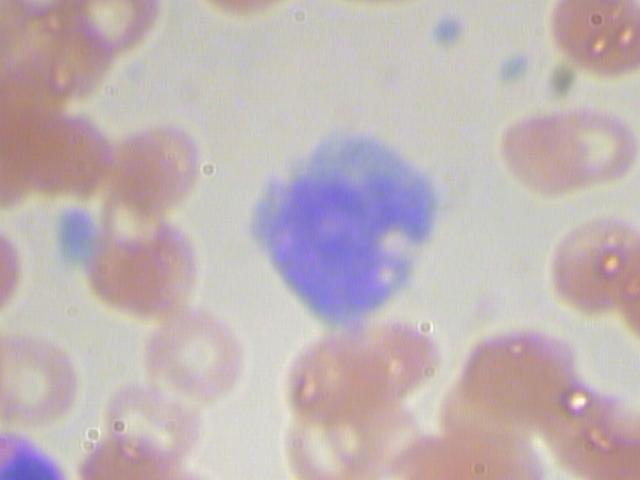RBC: (77, 209, 204, 322), (456, 325, 582, 426), (492, 109, 637, 195), (326, 316, 447, 412), (139, 301, 245, 401), (98, 366, 204, 466), (538, 215, 640, 317), (282, 386, 382, 480), (109, 121, 210, 212), (31, 108, 118, 207), (1, 328, 86, 424), (550, 1, 640, 77), (65, 1, 163, 70)
